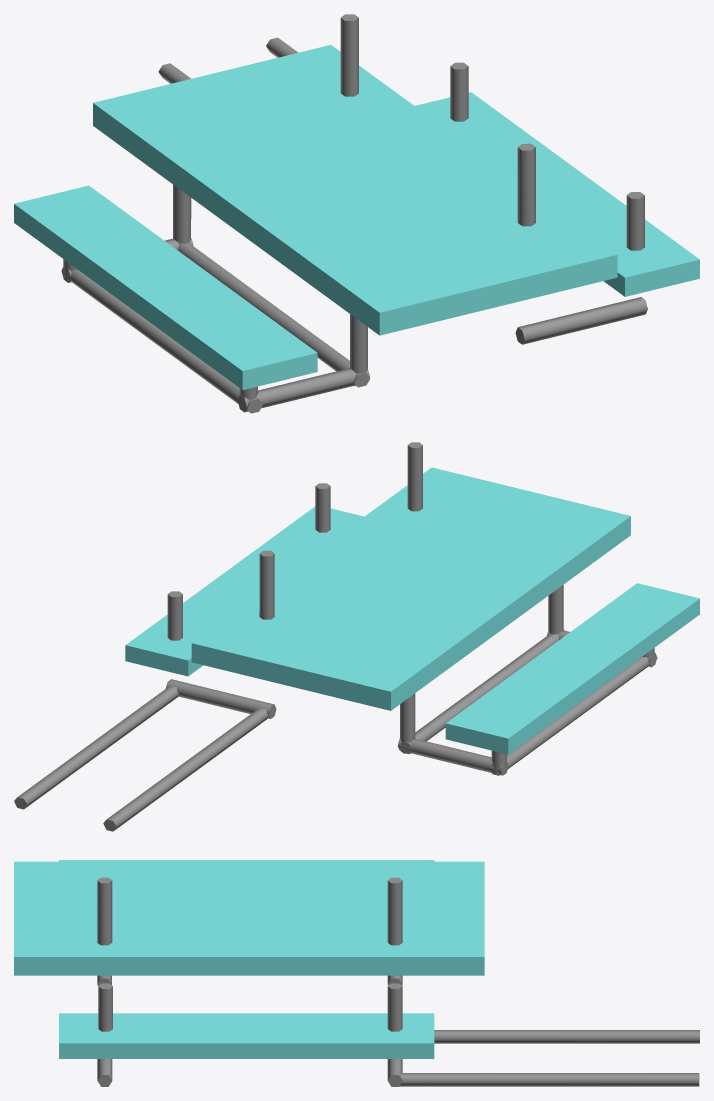
The model's file is cTable.FBX.
3 views of the same model, one above another, from view 1: azimuth 30°, elevation 25°; view 2: azimuth 150°, elevation 25°; view 3: azimuth 270°, elevation 25° (orthographic). The views are drawn at different scales.
Visible parts, largest first — view 1: Box007, Box013, Box014, Cylinder014, Cylinder020, Cylinder012, Cylinder009, Cylinder024, Cylinder021, Cylinder016, Cylinder015, Cylinder019 (+2 smaller); view 2: Box007, Box013, Box014, Cylinder017, Cylinder022, Cylinder014, Cylinder018, Cylinder025, Cylinder009, Cylinder016, Cylinder021, Cylinder024 (+4 smaller); view 3: Box007, Box014, Cylinder022, Cylinder017, Cylinder021, Cylinder016, Cylinder015, Box013, Cylinder019, Cylinder020, Cylinder018.
Part boxes in pixels (left/top/right/bottom): Box007: left=93, top=45, right=617, bottom=335; Box013: left=14, top=185, right=317, bottom=389; Box014: left=415, top=92, right=699, bottom=296; Cylinder014: left=62, top=270, right=262, bottom=413; Cylinder020: left=515, top=297, right=647, bottom=344; Cylinder012: left=237, top=368, right=369, bottom=412; Cylinder009: left=178, top=243, right=357, bottom=386; Cylinder024: left=180, top=242, right=369, bottom=387; Cylinder021: left=517, top=143, right=535, bottom=226; Cylinder016: left=340, top=14, right=358, bottom=96; Cylinder015: left=450, top=62, right=468, bottom=121; Cylinder019: left=626, top=192, right=644, bottom=250; Box007: left=191, top=467, right=630, bottom=710; Box013: left=445, top=583, right=699, bottom=754; Box014: left=125, top=506, right=363, bottom=676; Cylinder017: left=103, top=707, right=268, bottom=831; Cylinder022: left=14, top=686, right=178, bottom=809; Cylinder014: left=490, top=656, right=657, bottom=775; Cylinder018: left=165, top=679, right=276, bottom=718; Cylinder025: left=397, top=738, right=508, bottom=775; Cylinder009: left=399, top=630, right=564, bottom=753; Cylinder016: left=259, top=550, right=274, bottom=619; Cylinder021: left=407, top=442, right=422, bottom=511; Cylinder024: left=408, top=629, right=564, bottom=742; Box007: left=14, top=861, right=484, bottom=975; Box014: left=59, top=1013, right=434, bottom=1058; Cylinder022: left=399, top=1073, right=699, bottom=1086; Cylinder017: left=434, top=1030, right=699, bottom=1043; Cylinder021: left=97, top=877, right=112, bottom=945; Cylinder016: left=387, top=877, right=402, bottom=945; Cylinder015: left=387, top=983, right=402, bottom=1031; Box013: left=59, top=860, right=434, bottom=861; Cylinder019: left=98, top=983, right=112, bottom=1031; Cylinder020: left=97, top=1059, right=112, bottom=1086; Cylinder018: left=387, top=1059, right=402, bottom=1086.
Size of the model in its own units: 405 by 166 by 642.
